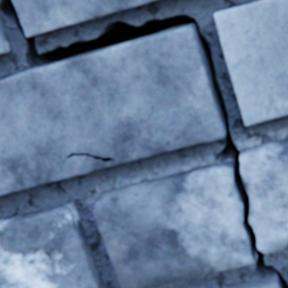brick: (0, 26, 225, 196), (214, 0, 287, 126), (0, 203, 106, 287), (13, 0, 161, 37), (225, 276, 280, 287), (0, 15, 12, 55)
broken_brick: (93, 162, 254, 287), (240, 138, 287, 253)
crack: (0, 0, 287, 287), (67, 153, 113, 162)
